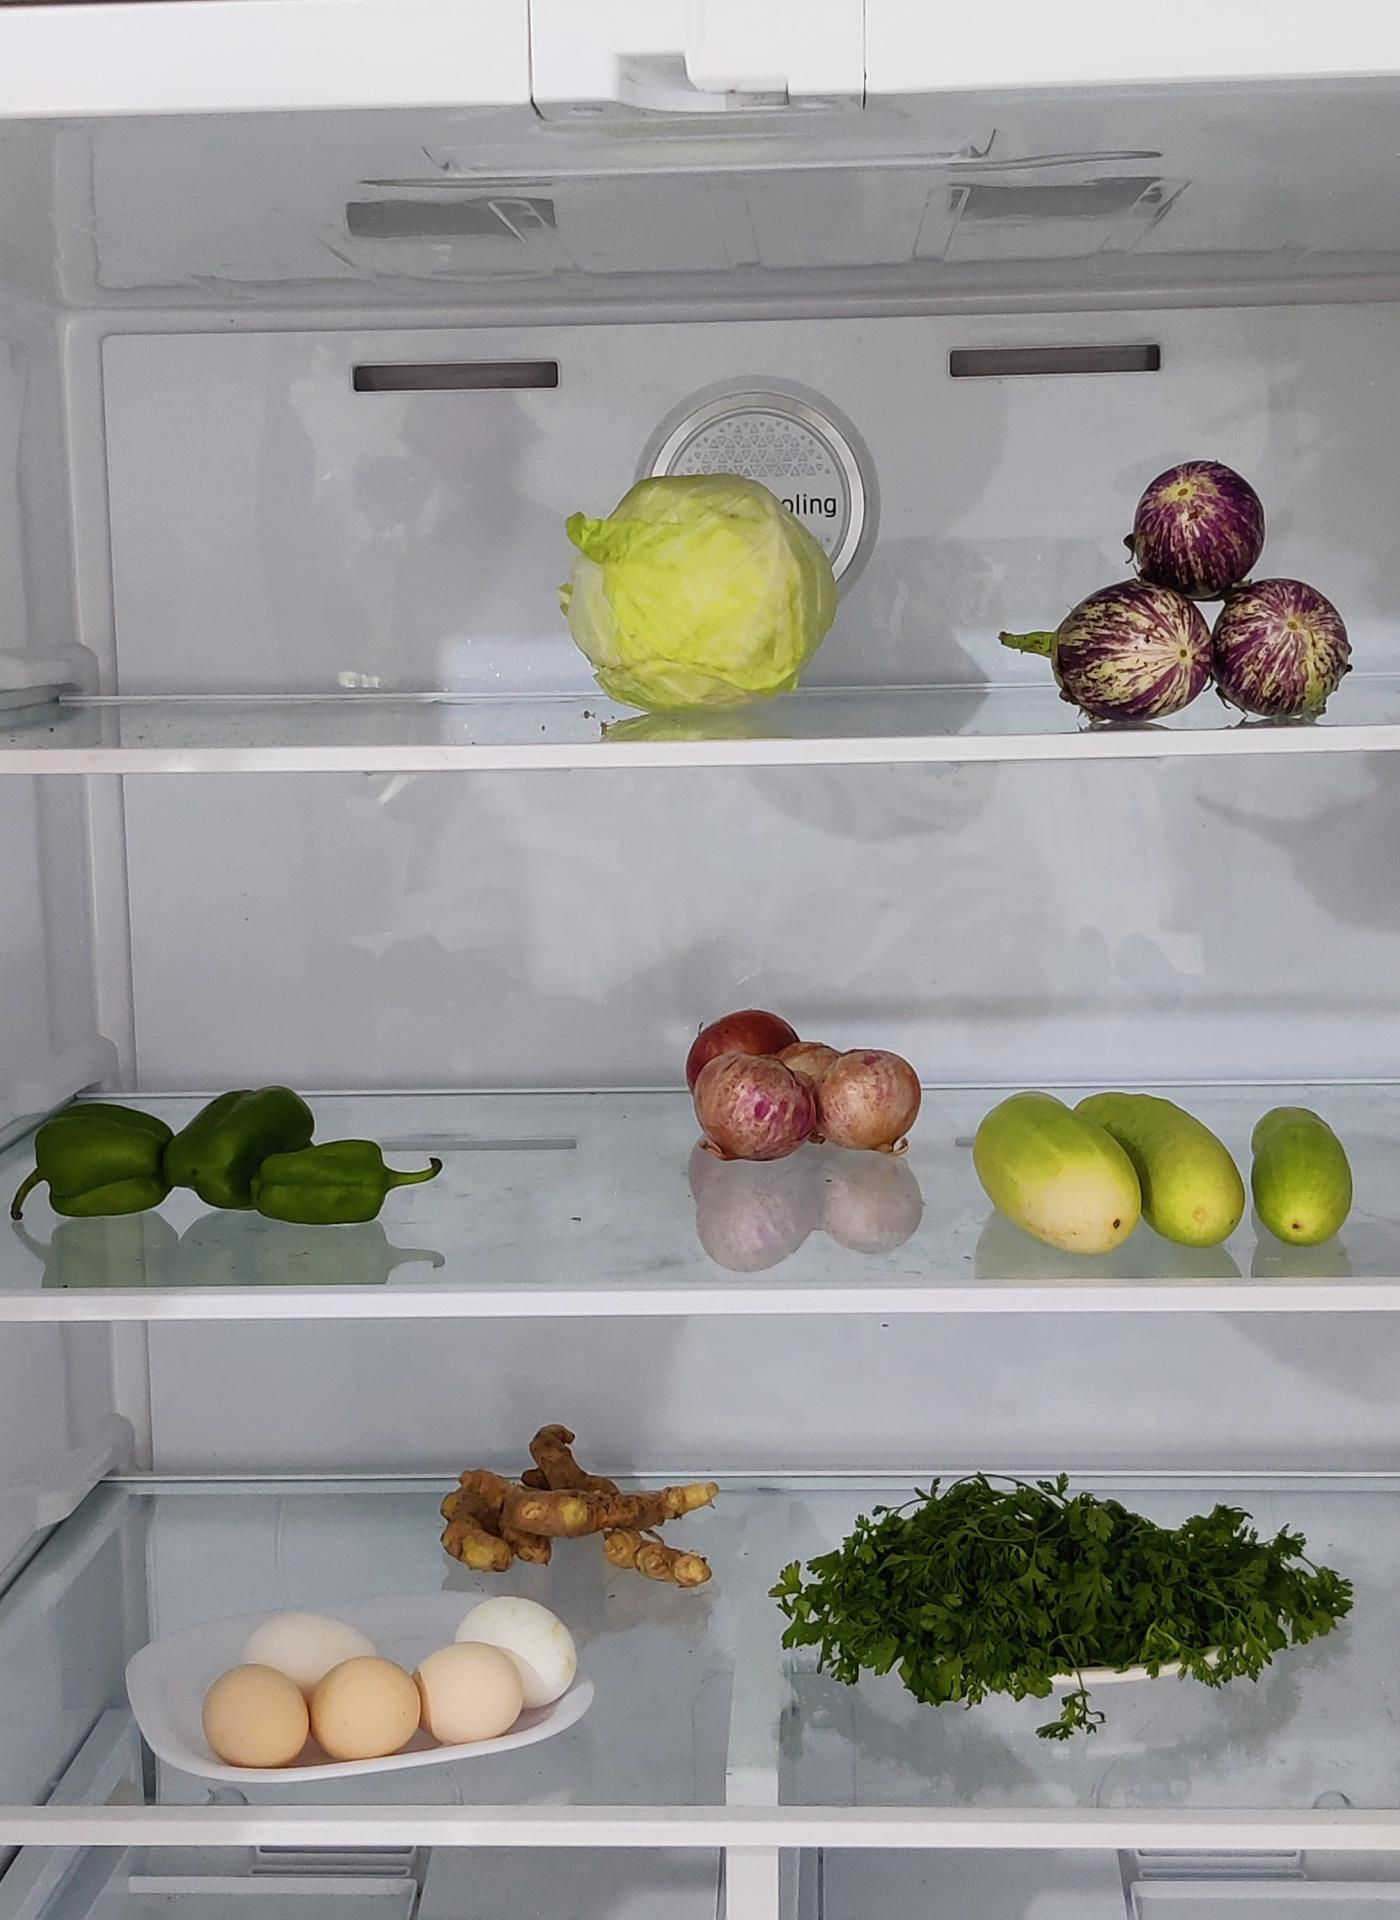brinjal: (1042, 456, 1358, 723)
cabbage: (561, 465, 824, 714)
capsicum: (13, 1082, 431, 1225)
coriander: (784, 1485, 1363, 1711)
cucumber: (977, 1102, 1354, 1263)
egg: (203, 1611, 559, 1769)
ginger: (440, 1421, 713, 1573)
onion: (671, 1002, 917, 1161)
